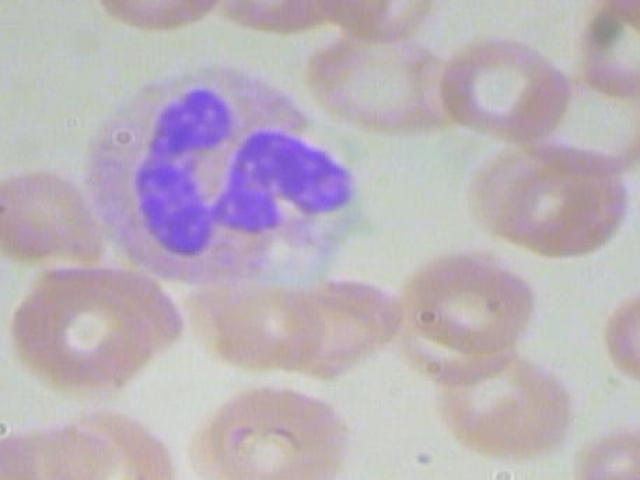RBC: (0, 273, 187, 394), (427, 345, 591, 463), (186, 372, 351, 480), (431, 33, 575, 149), (0, 169, 103, 272), (585, 279, 640, 395), (74, 0, 226, 33)
WBC: (74, 56, 372, 293)
